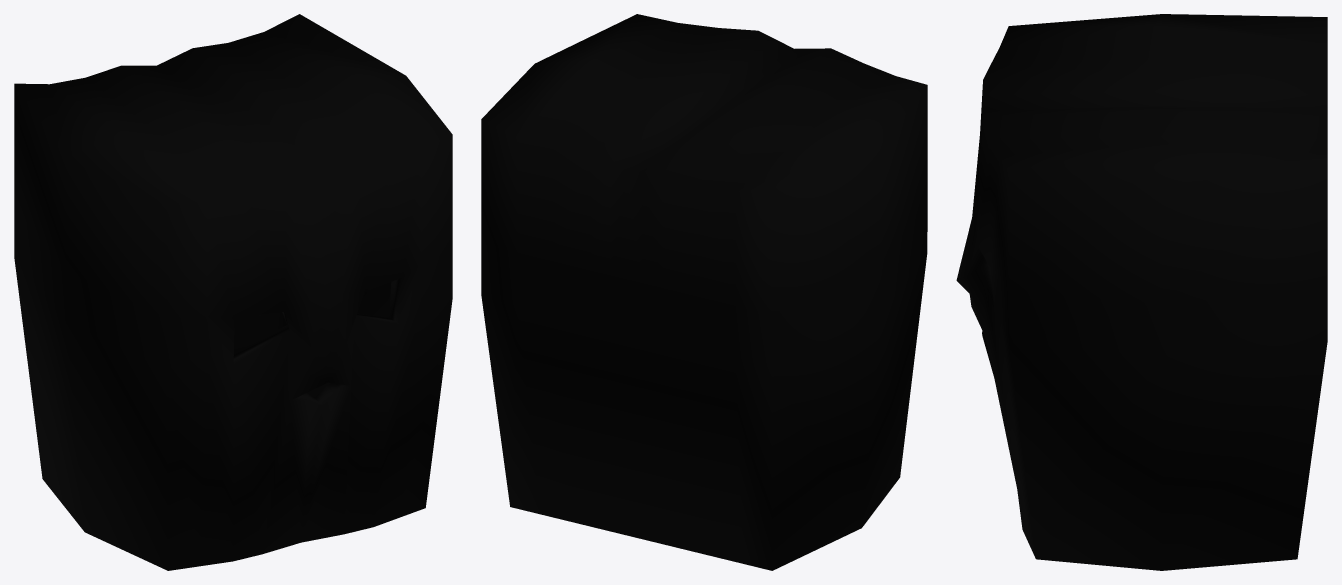
The model's file is mask.fbx.
3 renders of one model, left to right at view 1: azimuth 30°, elevation 25°; view 2: azimuth 150°, elevation 25°; view 3: azimuth 270°, elevation 25°, orthographic. The views are drawn at different scales.
Parts seen in each view (by area): view 1: Cube.002; view 2: Cube.002; view 3: Cube.002.
Part boxes in pixels (left/top/right/bottom): Cube.002: left=14, top=14, right=452, bottom=570; Cube.002: left=481, top=14, right=927, bottom=570; Cube.002: left=956, top=14, right=1327, bottom=570.
Bounding box in the file's own units: 44.05 × 48.45 × 39.84.
1 material, 1 textured.
